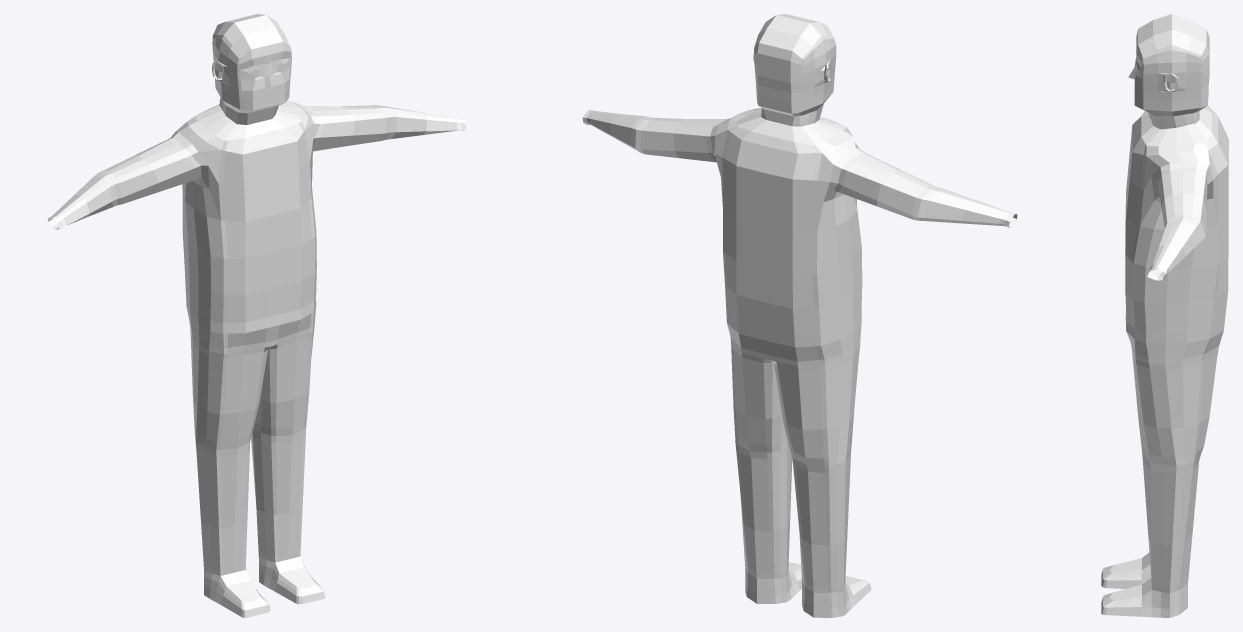
Rendered from CharacterWithZeroAlphaHands.fbx.
3 views of the same model, side by side, from view 1: azimuth 30°, elevation 25°; view 2: azimuth 150°, elevation 25°; view 3: azimuth 270°, elevation 25° (orthographic). The views are drawn at different scales.
Visible parts, largest first — view 1: Cube; view 2: Cube; view 3: Cube.
Boxes of the visible parts, box(x1,y1,x2,y2) form: Cube: box(47, 14, 466, 617); Cube: box(582, 14, 1017, 617); Cube: box(1101, 14, 1228, 617).
Bounding box in the file's own units: 186 × 200 × 40.44.
1 material, 1 textured.
